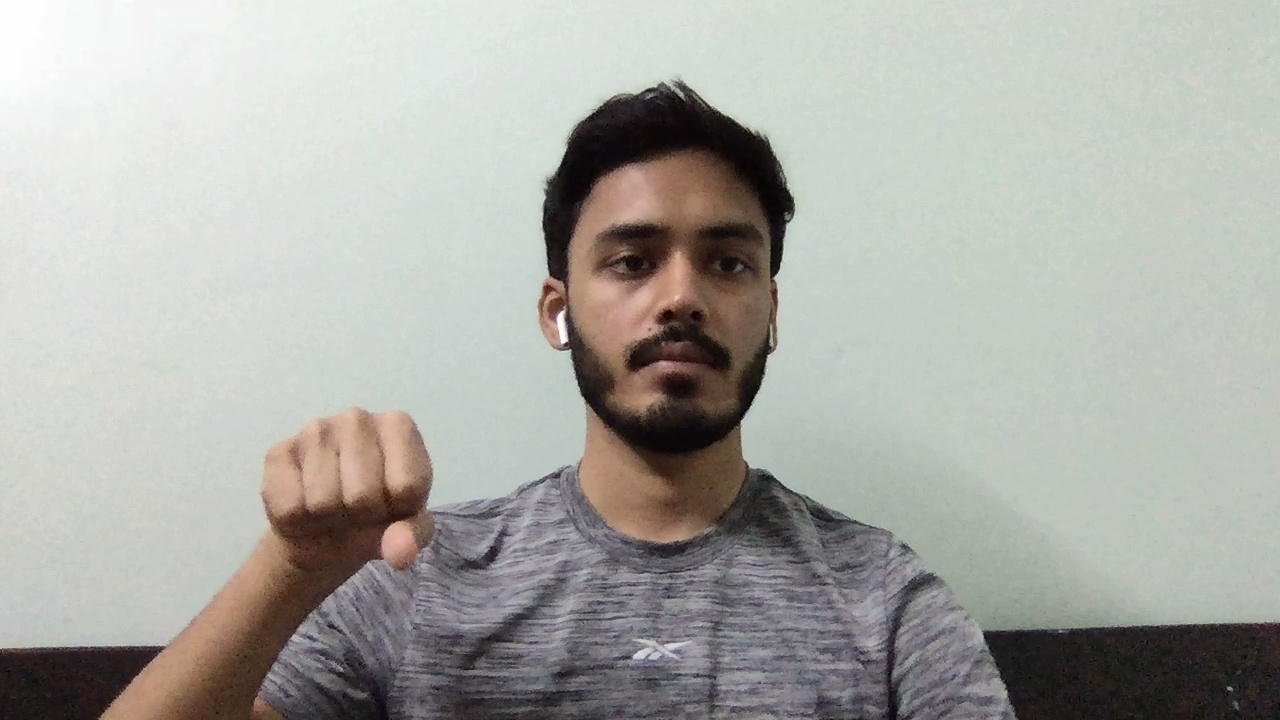Yes: (239, 397, 453, 585)
